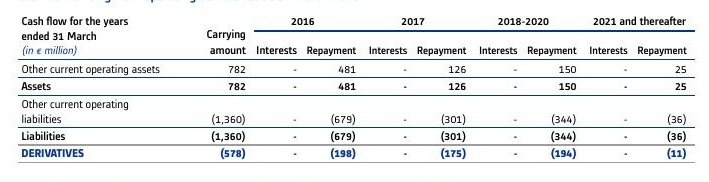table: (0, 0, 709, 182)
